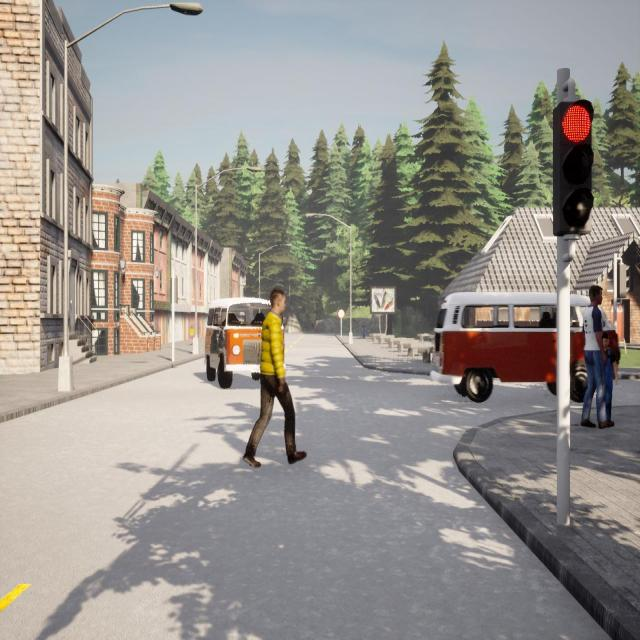Pedestrian: (243, 288, 306, 466), (581, 285, 613, 428), (600, 332, 618, 423), (188, 324, 195, 346), (361, 321, 367, 339)
Traffic_Signs: (338, 309, 344, 318)
Vehicle: (433, 292, 621, 405), (203, 297, 284, 388)
traffic_light: (553, 100, 595, 235), (618, 264, 630, 298), (171, 278, 179, 304)
